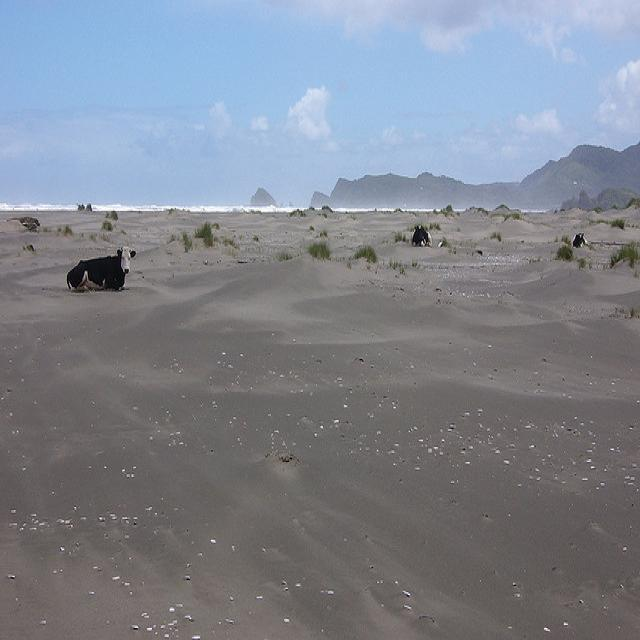cow: (61, 245, 137, 295), (410, 223, 431, 245), (570, 230, 588, 247)
